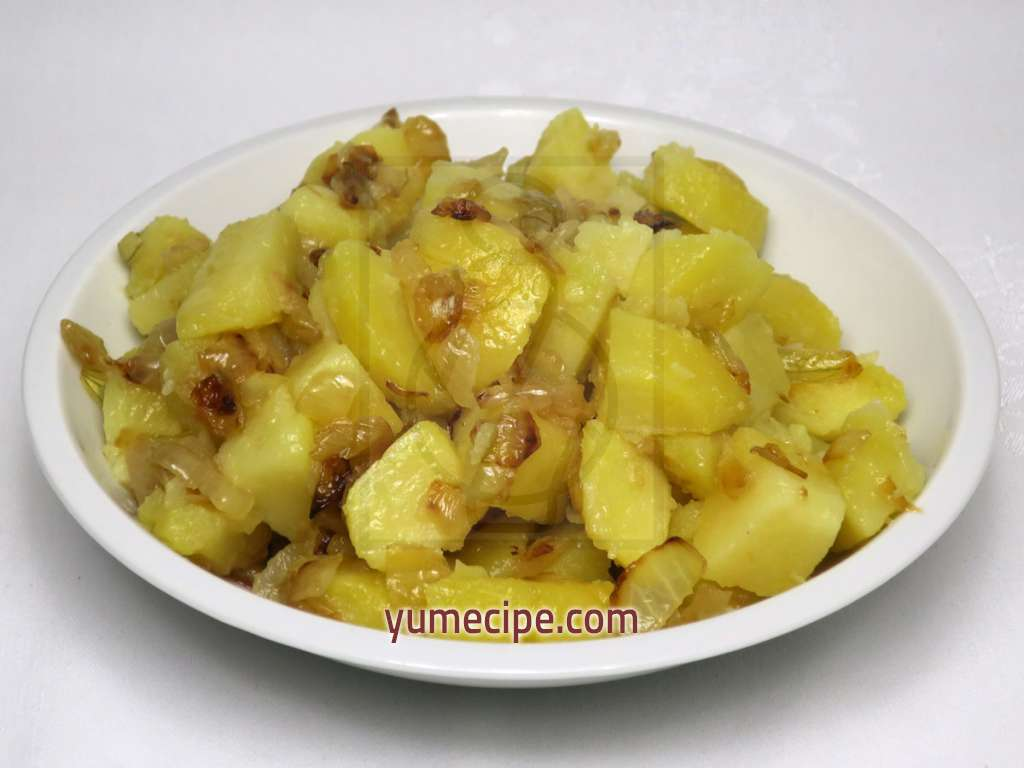boiled potatoes: (159, 139, 871, 599)
